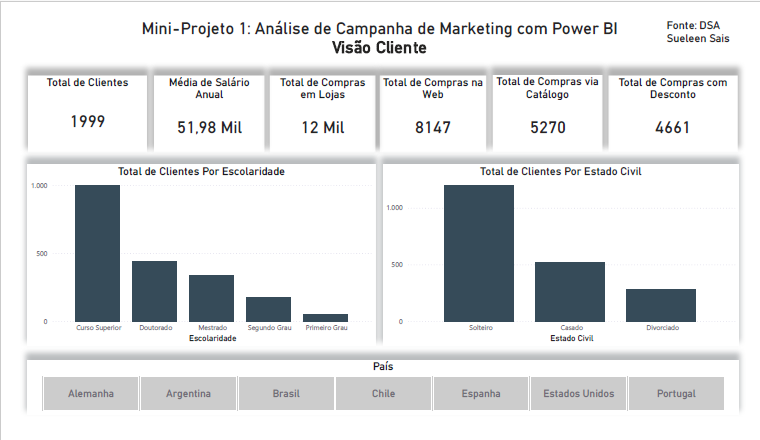

This screenshot's page, from the dashboard's own definition file:
{"tool":"powerbi","page":{"name":"Visão Cliente","canvas":[1280,720],"ordinal":0},"visuals":[{"type":"card","title":"Total de Clientes","fields":{"Values":["CountNonNull(DadosMarketing.ID)"]},"box":[22.9,104.3,208.6,134.3],"z":0},{"type":"card","title":"Média de Salário Anual","fields":{"Values":["Avg(DadosMarketing.Salario Anual)"]},"box":[242.9,104.3,192.9,134.3],"z":1000},{"type":"card","title":"Total de Compras em Lojas","fields":{"Values":["Sum(DadosMarketing.Numero de Compras na Loja)"]},"box":[445,103.8,185,135],"z":2000},{"type":"card","title":"Total de Compras na Web","fields":{"Values":["Sum(DadosMarketing.Numero de Compras na Web)"]},"box":[637.1,104.3,185.7,134.3],"z":3000},{"type":"card","title":"Total de Compras com Desconto","fields":{"Values":["Sum(DadosMarketing.Numero de Compras com Desconto)"]},"box":[1036,104,226,134],"z":4000},{"type":"card","title":"Total de Compras via Catálogo","fields":{"Values":["Sum(DadosMarketing.Numero de Compras via Catalogo)"]},"box":[833.8,102.5,192.5,135],"z":5000},{"type":"textbox","box":[162.5,0,948.8,76.2],"z":6000},{"type":"columnChart","title":"Total de Clientes Por Escolaridade","fields":{"Category":["DadosMarketing.Escolaridade"],"Y":["CountNonNull(DadosMarketing.ID)"]},"box":[22.9,260,605.7,315.7],"z":7000},{"type":"columnChart","title":"Total de Clientes Por Estado Civil","fields":{"Category":["DadosMarketing.Estado Civil"],"Y":["CountNonNull(DadosMarketing.ID)"]},"box":[642.9,260,620,315.7],"z":8000},{"type":"slicer","title":"País","fields":{"Values":["DadosMarketing.Pais"]},"box":[22.5,601.2,1240,95],"z":9000},{"type":"textbox","box":[1132.5,0,130,57.5],"z":10000}]}

Visuals, with their boxes in screenshot pixels (x1, y1, x2, y2), scaled from the page's 1280x720 canvas onto the 760x440 screenshot:
"Total de Clientes" card: (left=14, top=64, right=137, bottom=146)
"Média de Salário Anual" card: (left=144, top=64, right=259, bottom=146)
"Total de Compras em Lojas" card: (left=264, top=63, right=374, bottom=146)
"Total de Compras na Web" card: (left=378, top=64, right=489, bottom=146)
"Total de Compras com Desconto" card: (left=615, top=64, right=749, bottom=145)
"Total de Compras via Catálogo" card: (left=495, top=63, right=609, bottom=145)
textbox: (left=96, top=0, right=660, bottom=47)
"Total de Clientes Por Escolaridade" columnChart: (left=14, top=159, right=373, bottom=352)
"Total de Clientes Por Estado Civil" columnChart: (left=382, top=159, right=750, bottom=352)
"País" slicer: (left=13, top=367, right=750, bottom=425)
textbox: (left=672, top=0, right=750, bottom=35)
